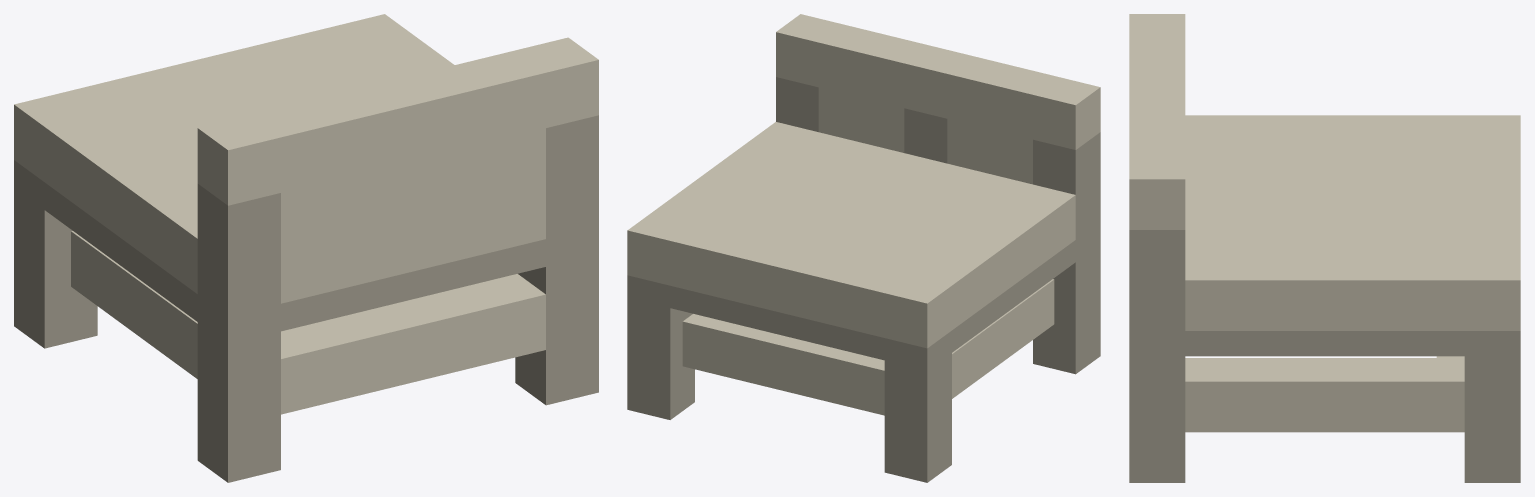
File: silla_abedul_tallada_01.glb
3 renders of one model, left to right at view 1: azimuth 30°, elevation 25°; view 2: azimuth 150°, elevation 25°; view 3: azimuth 270°, elevation 25°, orthographic. The views are drawn at different scales.
Visible parts, largest first — view 1: silla_abedul_tallada; view 2: silla_abedul_tallada; view 3: silla_abedul_tallada.
Part boxes in pixels (x1,y1,x2,y2): silla_abedul_tallada: [14, 14, 598, 482]; silla_abedul_tallada: [627, 14, 1100, 482]; silla_abedul_tallada: [1129, 14, 1520, 482].
Bounding box in the file's own units: 1 × 0.8571 × 1.
